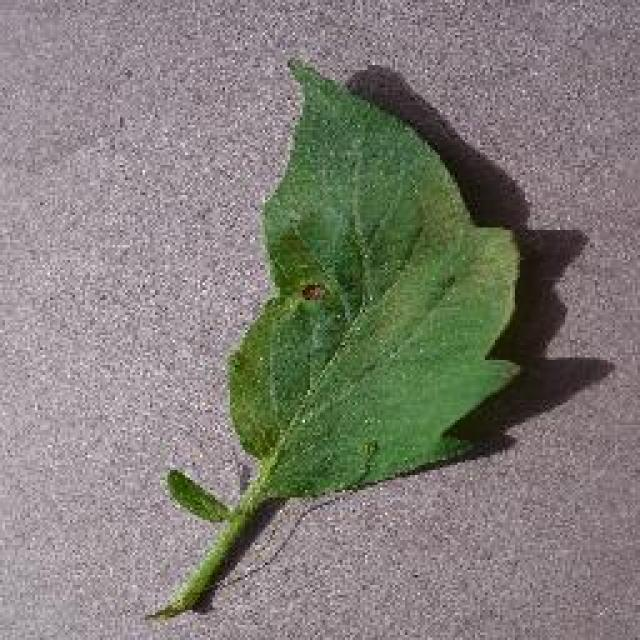Tomato___Target_Spot: (158, 60, 518, 615)
